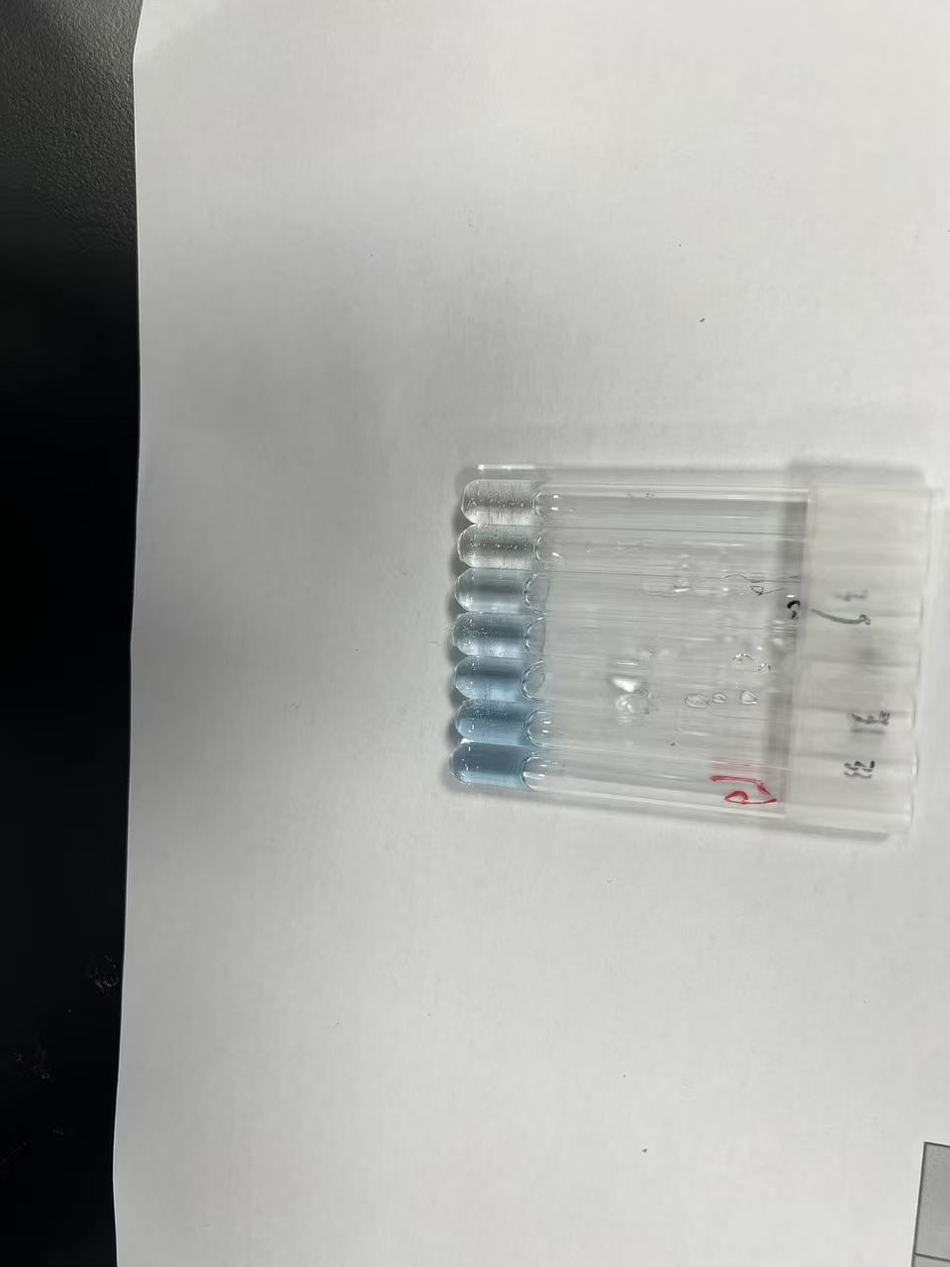drop: (455, 522, 560, 575), (453, 700, 558, 753), (451, 653, 552, 708), (449, 741, 553, 794), (458, 476, 557, 530), (448, 566, 557, 615), (452, 607, 546, 661)
